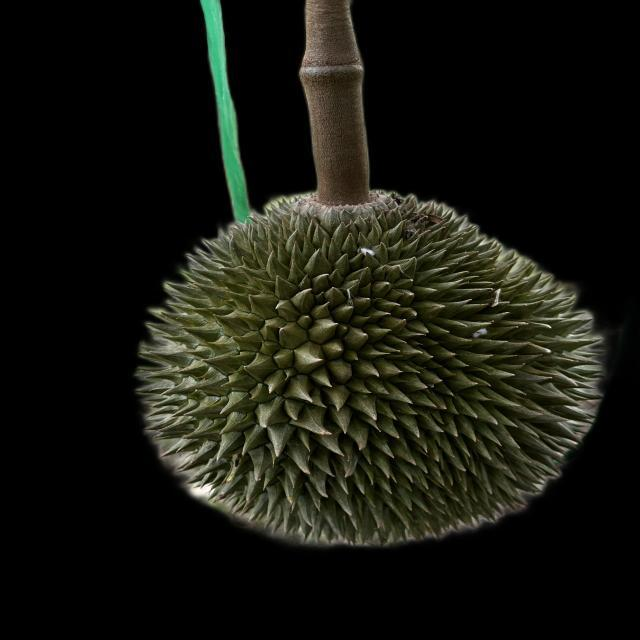immature: (133, 184, 599, 545)
